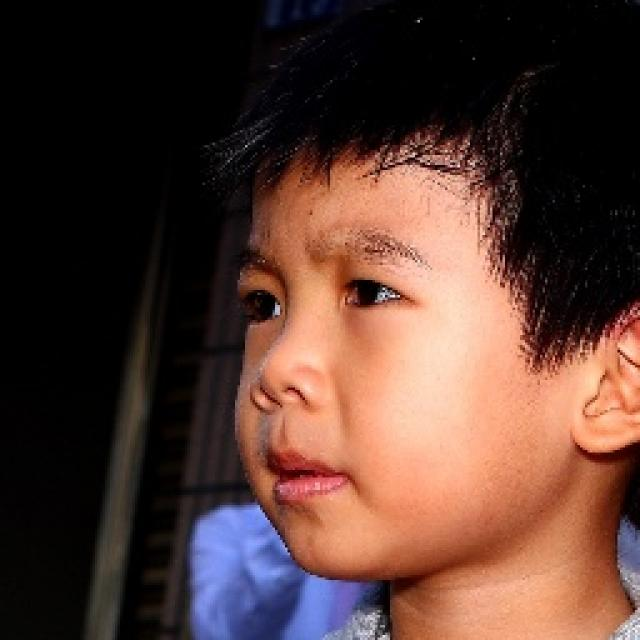earlobe: (574, 426, 638, 455)
eye: (340, 280, 406, 308), (244, 285, 284, 326)
nose: (251, 392, 325, 441)
wholeear: (573, 305, 640, 456)
